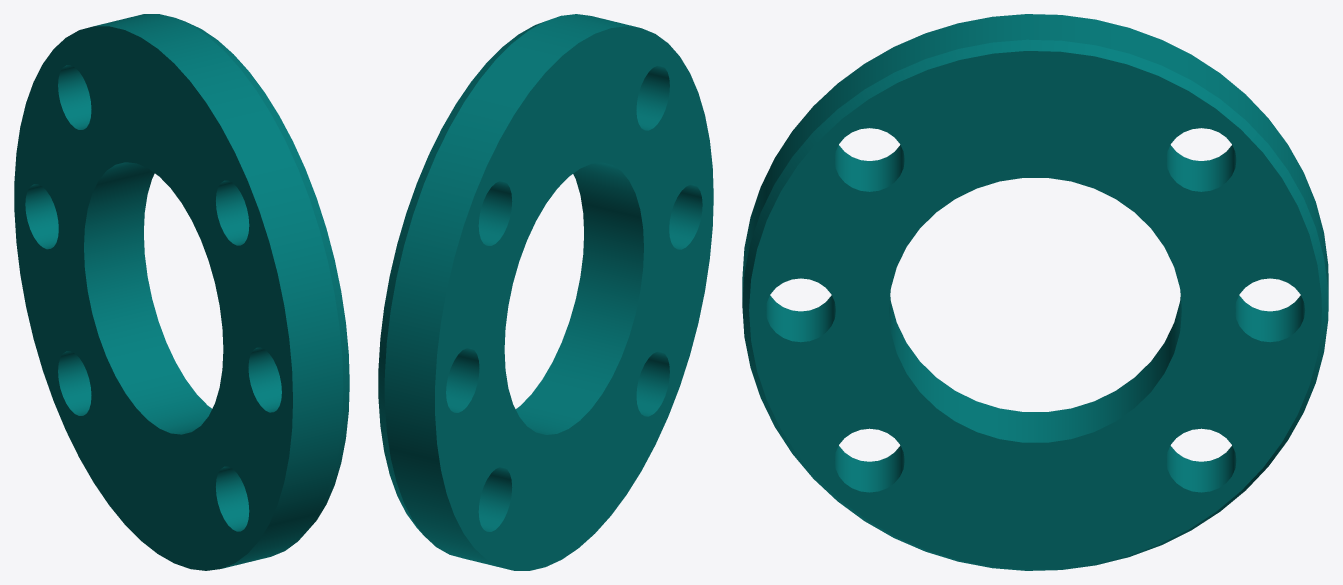
The picture shows the model from 3 angles, left to right: view 1: azimuth 30°, elevation 25°; view 2: azimuth 150°, elevation 25°; view 3: azimuth 270°, elevation 25°; orthographic projection. The views are drawn at different scales.
Parts seen in each view (by area): view 1: KR16-AV300.sldasm-Part-13-1-1; view 2: KR16-AV300.sldasm-Part-13-1-1; view 3: KR16-AV300.sldasm-Part-13-1-1.
Boxes of the visible parts, box(x1,y1,x2,y2) form: KR16-AV300.sldasm-Part-13-1-1: box(14, 14, 349, 570); KR16-AV300.sldasm-Part-13-1-1: box(378, 14, 713, 570); KR16-AV300.sldasm-Part-13-1-1: box(742, 14, 1328, 570).
Bounding box in the file's own units: 0.0062 × 0.05 × 0.05.
